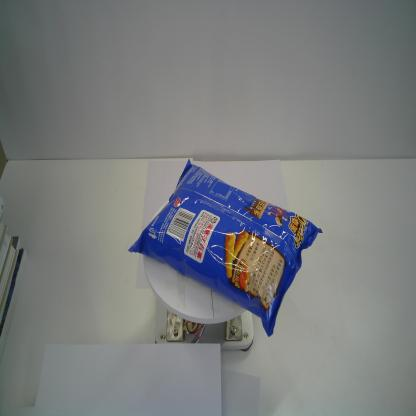Puffed Food: (127, 156, 324, 337)
